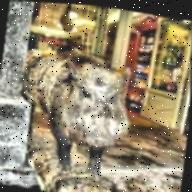boar: (25, 24, 142, 170)
